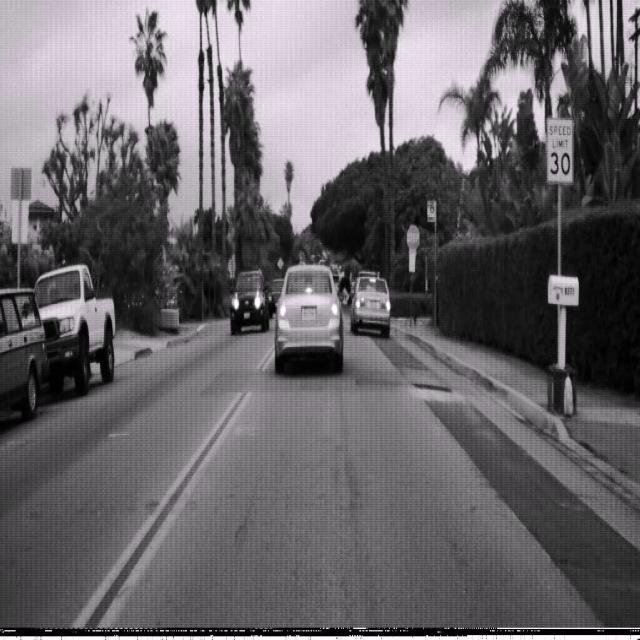stop_sign: (406, 224, 420, 252)
